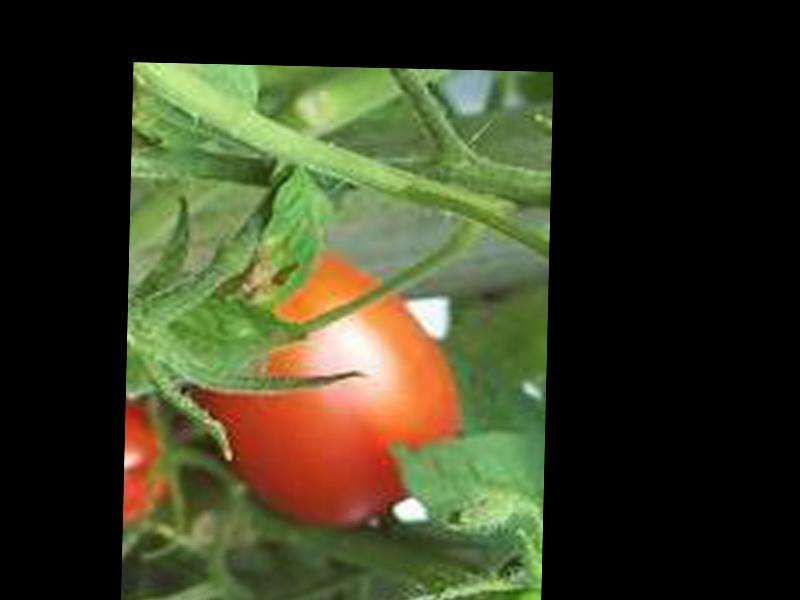Tomato: (202, 256, 465, 528)
